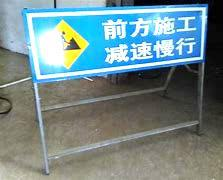sign: (26, 8, 205, 67)
